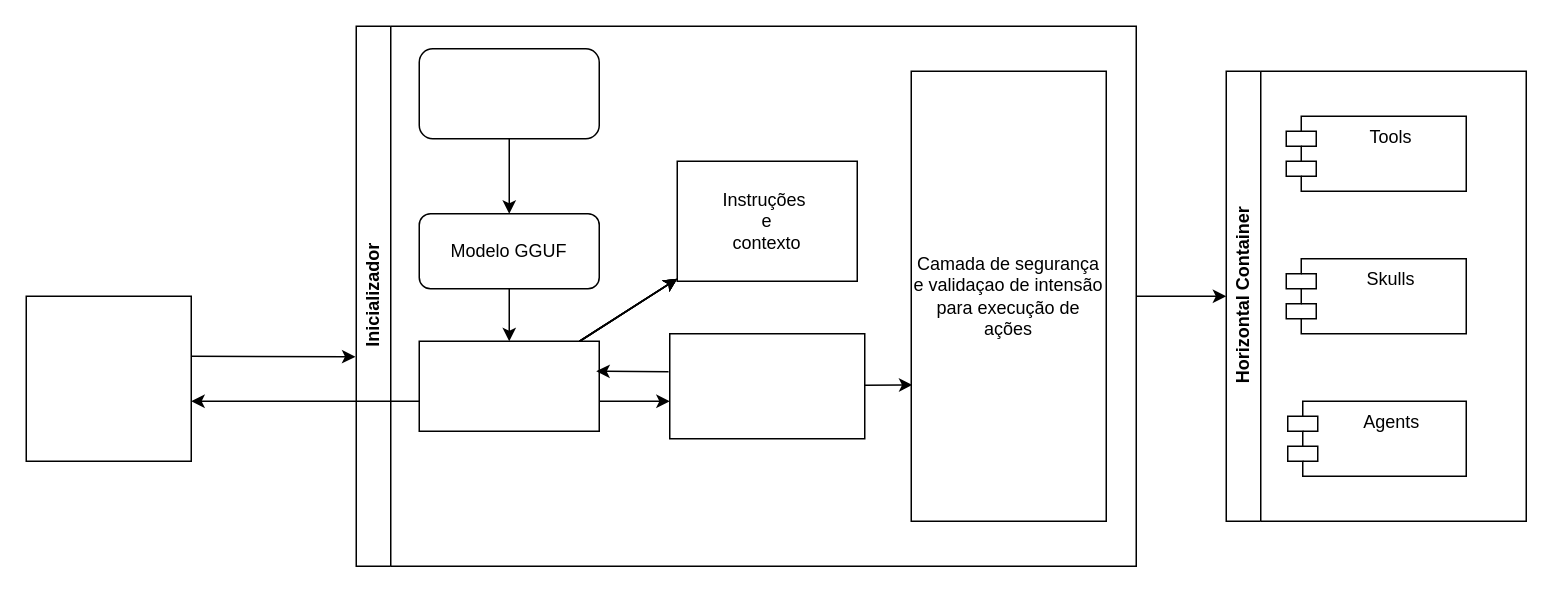
Some shapes in this 1553 by 593 pixel diagram are drawn without their labels. Each missing label, with the box of its shape:
Definições de Configuraçoes: (418, 47, 599, 139)
Entrada/saida (Interação com o usuário) TXT/AUD: (668, 332, 865, 439)
Inicialização MyelinEngine: (418, 340, 599, 431)
Nucleo de Inferencia (llama.cpp ): (25, 295, 191, 461)
